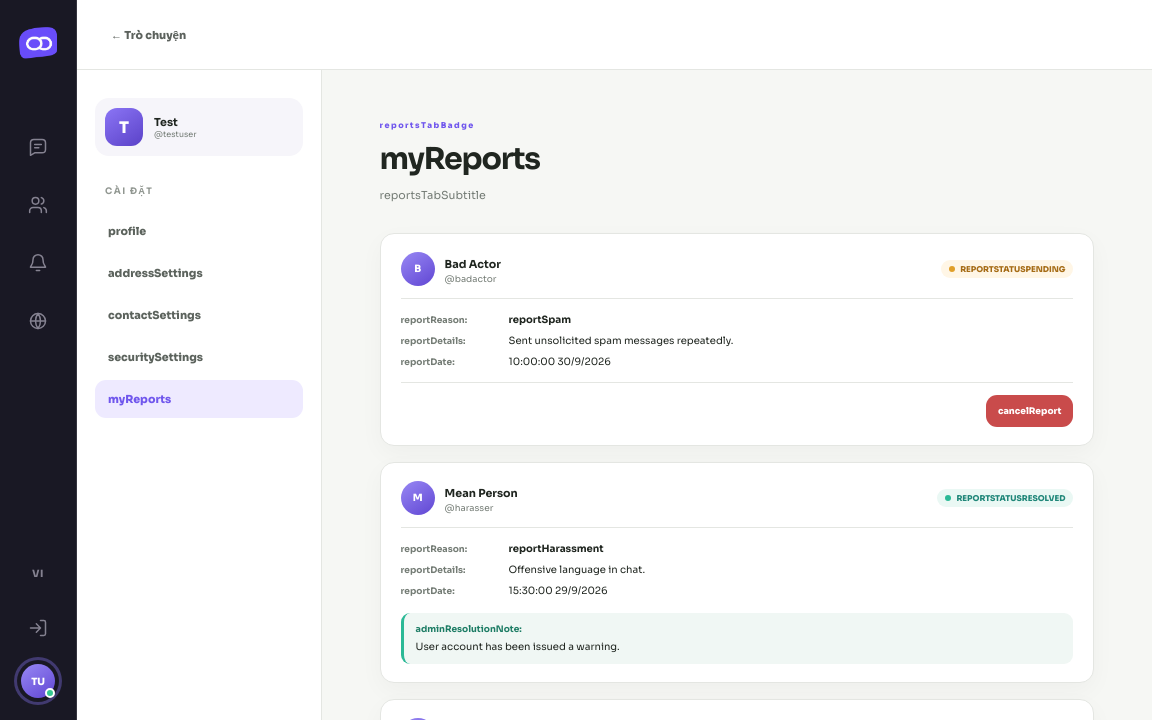
SettingsPage Reports Tab › handles cancellation error gracefully by displaying notification
The width and height of the screenshot is (1152, 720).
Expected: the text "Bad Actor" is shown, [445,257,501,271]
Click the button "cancelReport". click: coordinates (1030, 411)
box: [986,395,1073,427]
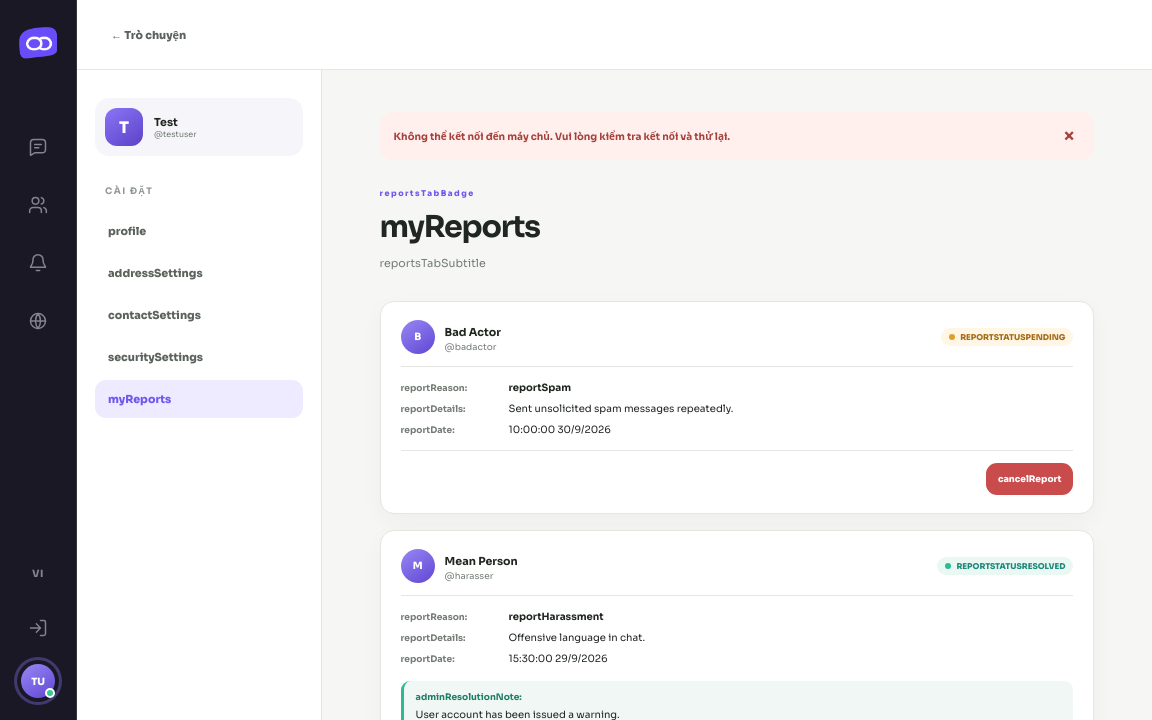
Expected: the button "cancelReport" is enabled, [986,463,1073,495]
Result: the message "Không thể kết nối đến máy chủ. Vui lòng kiểm tra kết nối và thử lại. ×" is shown at [380,112,1094,160]
